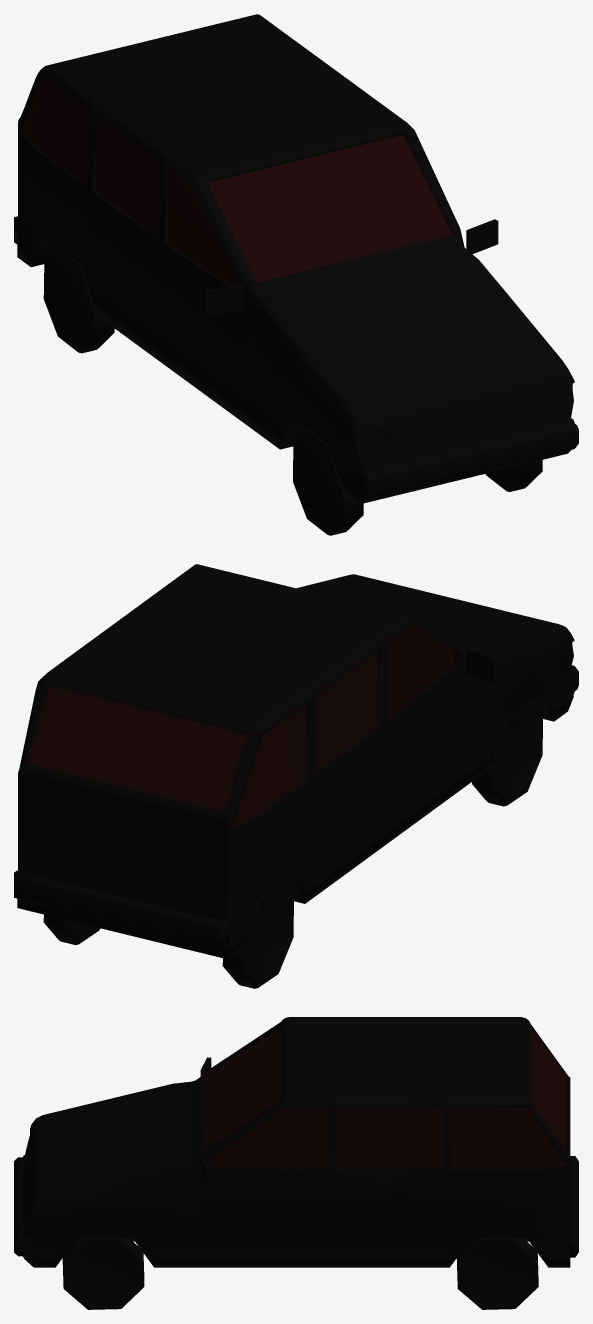
The model's file is SM_Car_00.fbx.
3 views of the same model, one above another, from view 1: azimuth 30°, elevation 25°; view 2: azimuth 150°, elevation 25°; view 3: azimuth 270°, elevation 25° (orthographic). The views are drawn at different scales.
Visible parts, largest first — view 1: Car_00; view 2: Car_00; view 3: Car_00.
Boxes of the visible parts, x1,y1,x2,y2 form: Car_00: (14,14,578,535); Car_00: (14,564,578,988); Car_00: (14,1017,578,1309).
Size of the model in its own units: 193 by 171 by 409.
